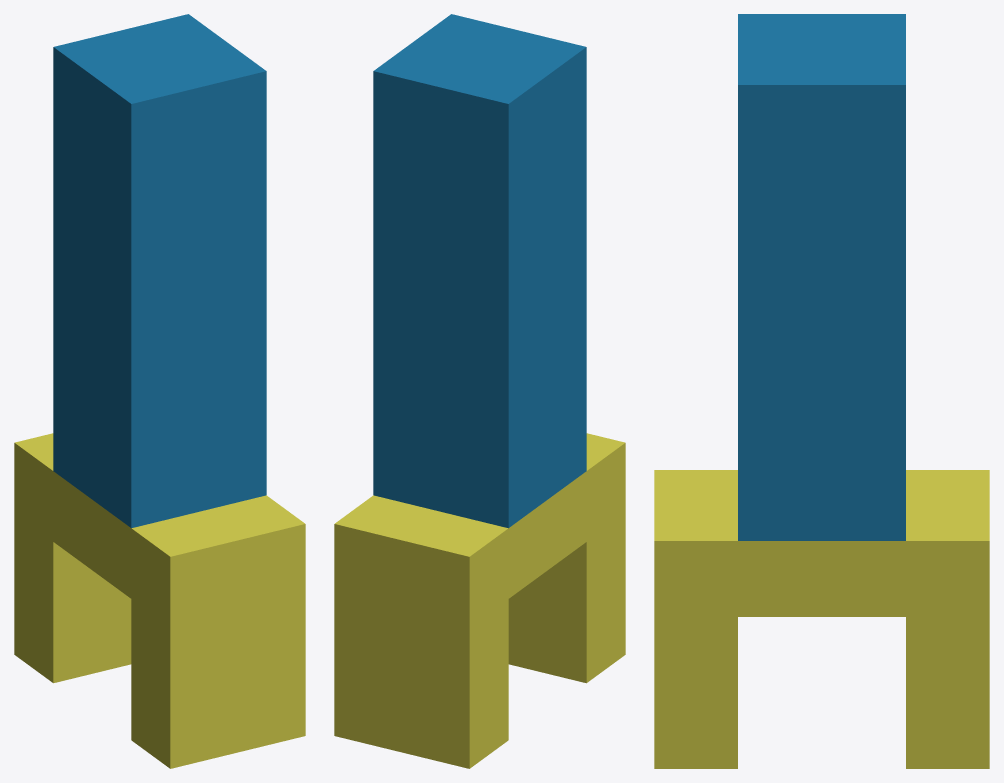
The model's file is arm.fbx.
3 views of the same model, side by side, from view 1: azimuth 30°, elevation 25°; view 2: azimuth 150°, elevation 25°; view 3: azimuth 270°, elevation 25° (orthographic). The views are drawn at different scales.
Parts seen in each view (by area): view 1: model; view 2: model; view 3: model.
Boxes of the visible parts, x1,y1,x2,y2 form: model: (14,14,305,768); model: (334,14,625,768); model: (654,14,989,768).
Bounding box in the file's own units: 2 × 9 × 4.
